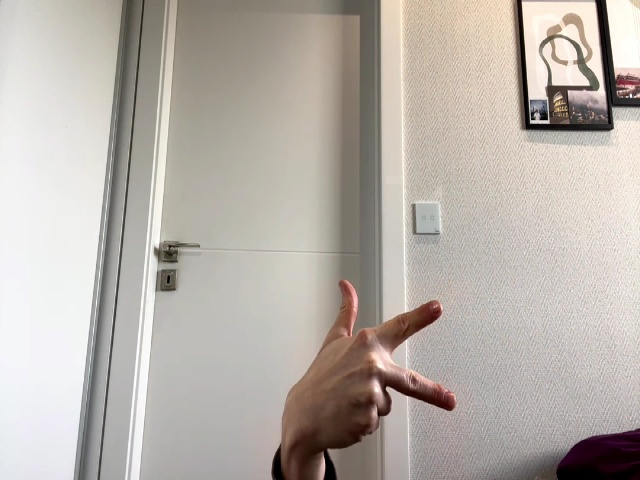K: (298, 279, 456, 451)
